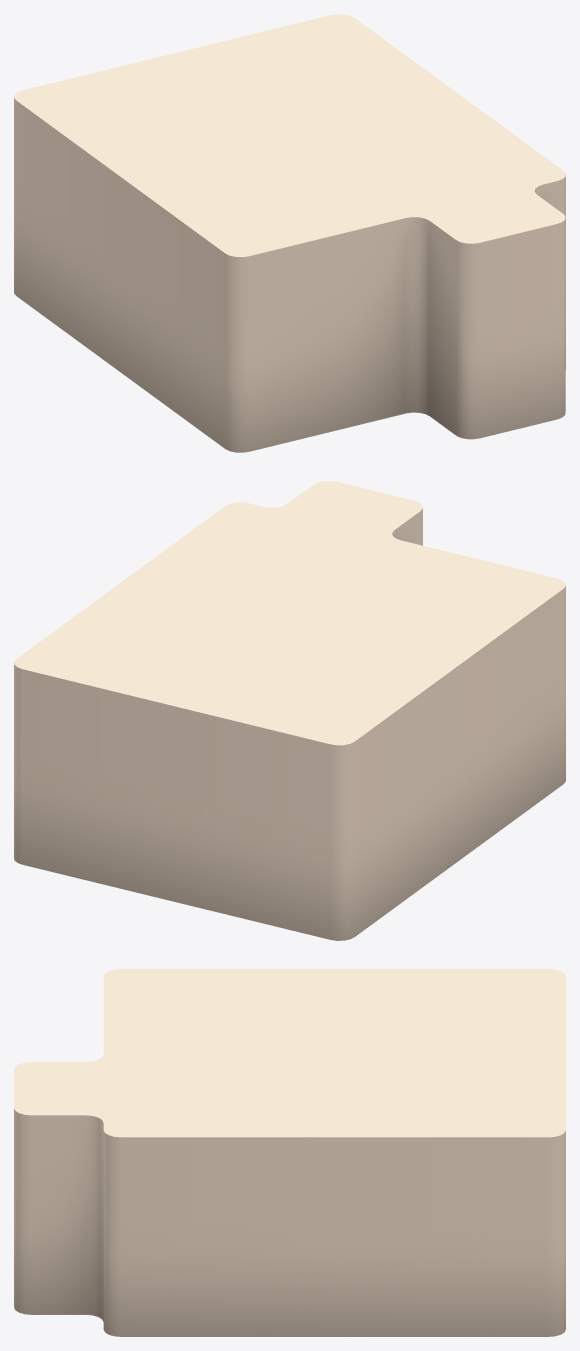
3 renders of one model, top to bottom at view 1: azimuth 30°, elevation 25°; view 2: azimuth 150°, elevation 25°; view 3: azimuth 270°, elevation 25°, orthographic. The views are drawn at different scales.
Parts seen in each view (by area): view 1: Plane.bake; view 2: Plane.bake; view 3: Plane.bake.
Boxes of the visible parts, x1,y1,x2,y2 form: Plane.bake: (14, 14, 565, 452); Plane.bake: (14, 481, 565, 940); Plane.bake: (14, 969, 565, 1336).
Bounding box in the file's own units: 9.65 × 5.33 × 13.37.
Materials: 1 (1 with a texture image).
